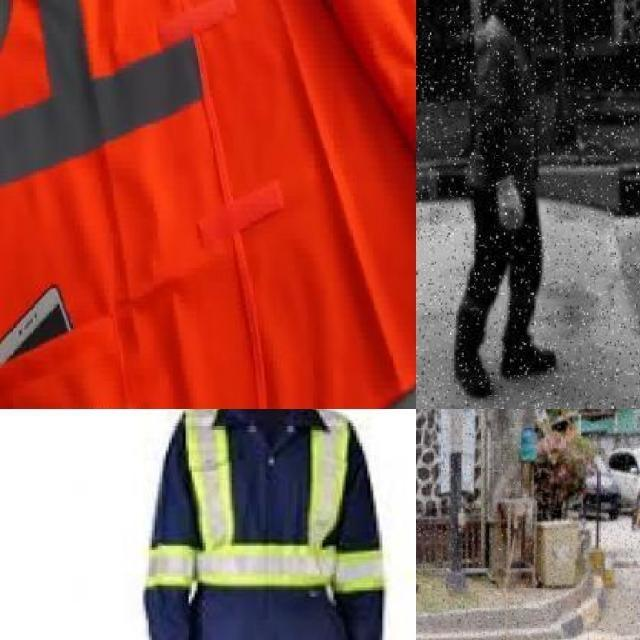apron: (492, 170, 534, 243)
